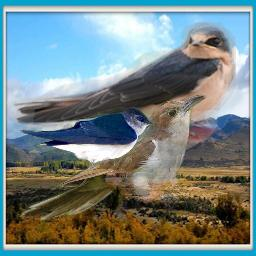Cuckoo: (19, 94, 206, 220)
Swallow: (12, 21, 236, 143), (20, 107, 155, 174)
